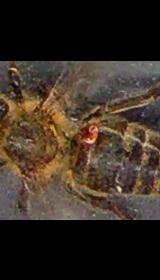varroa_mite: (70, 115, 103, 152)
